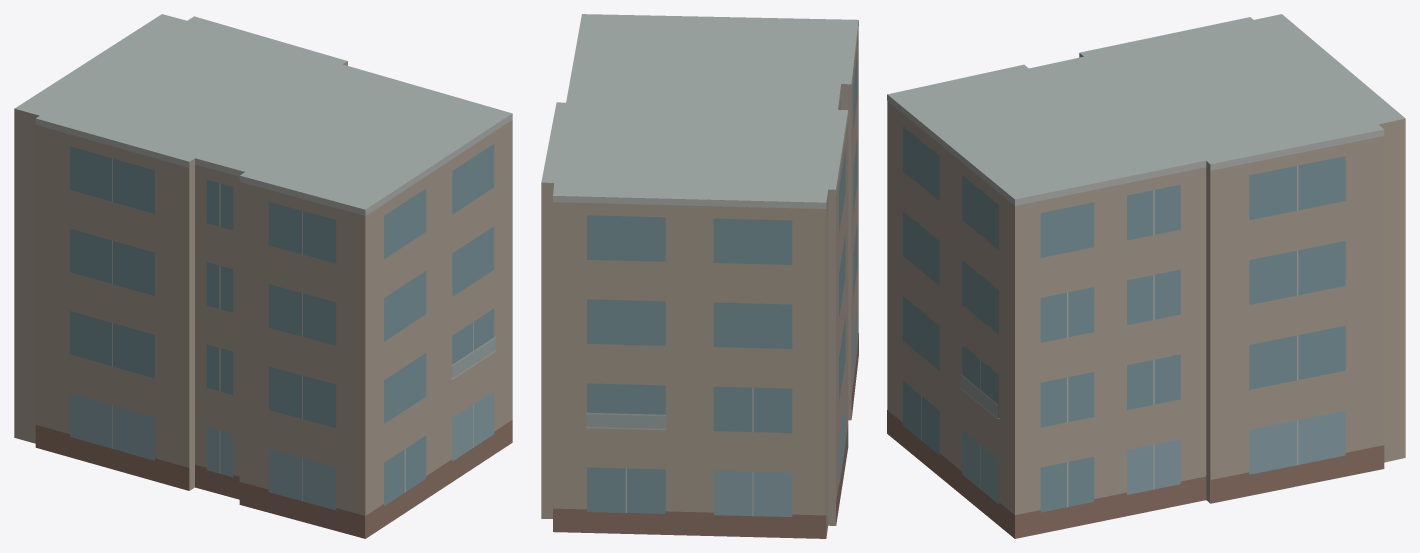
The model's file is survey-upis-32740897.glb.
The picture shows the model from 3 angles, left to right: view 1: azimuth 30°, elevation 25°; view 2: azimuth 150°, elevation 25°; view 3: azimuth 270°, elevation 25°; orthographic projection. The views are drawn at different scales.
Parts seen in each view (by area): view 1: survey-upis-32740897.tmp; view 2: survey-upis-32740897.tmp; view 3: survey-upis-32740897.tmp.
Boxes of the visible parts, x1=… form: survey-upis-32740897.tmp: x1=14, y1=14, x2=512, y2=538; survey-upis-32740897.tmp: x1=541, y1=14, x2=858, y2=538; survey-upis-32740897.tmp: x1=887, y1=14, x2=1405, y2=538.
Size of the model in its own units: 15.01 by 12.8 by 17.73.
